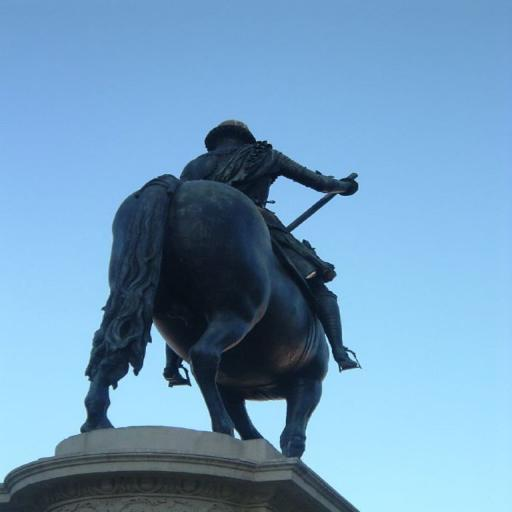horse: (78, 170, 332, 458)
